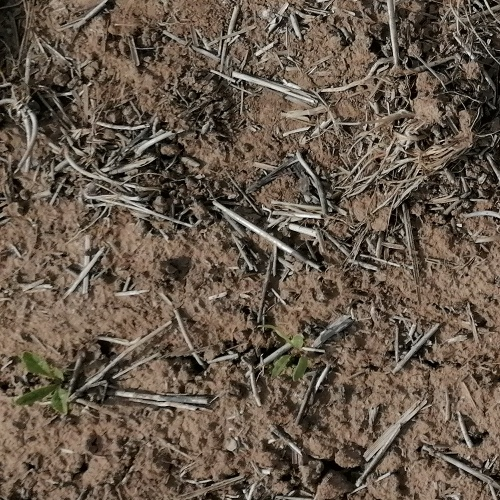beet: (13, 353, 69, 416), (268, 338, 308, 384)
